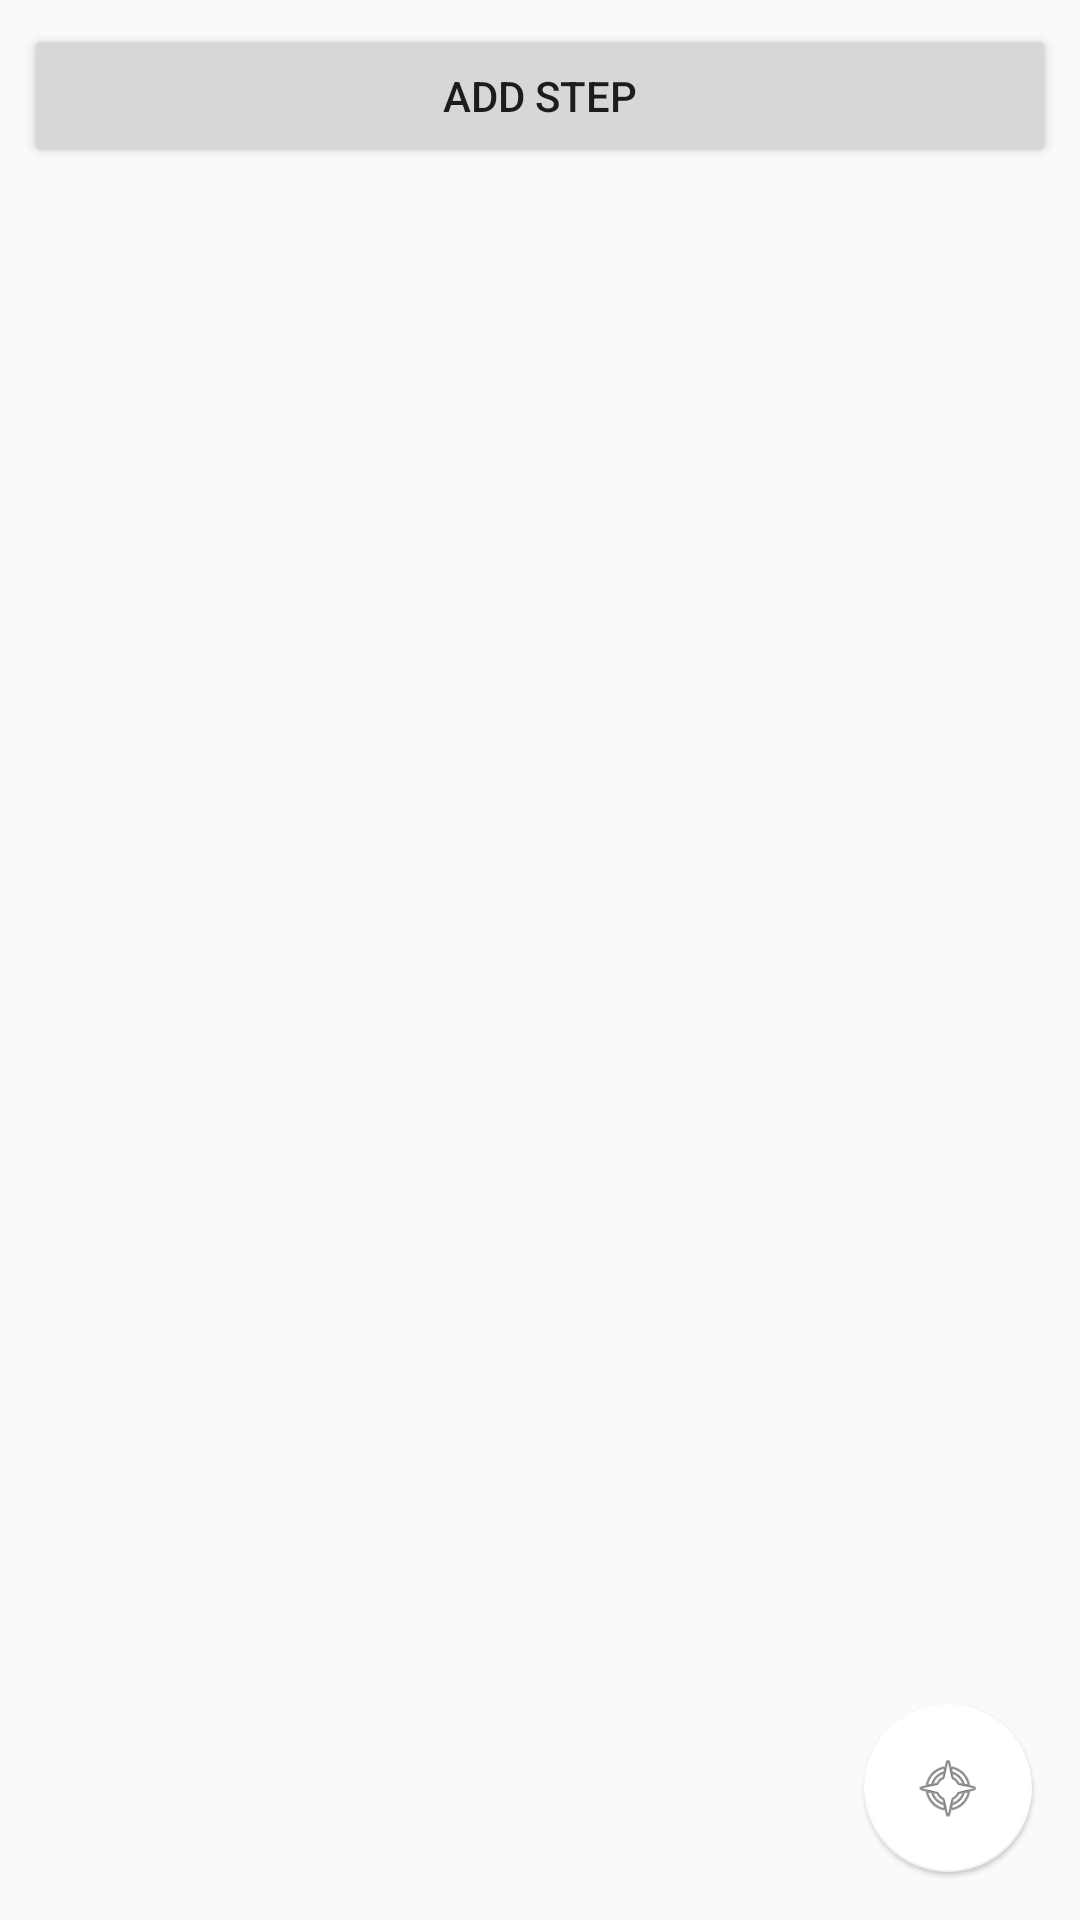

Icons on this 1080*1920 Android screen, each with its box as (x1, y1, x2, y2):
compass: (874, 1760, 1032, 1872)
